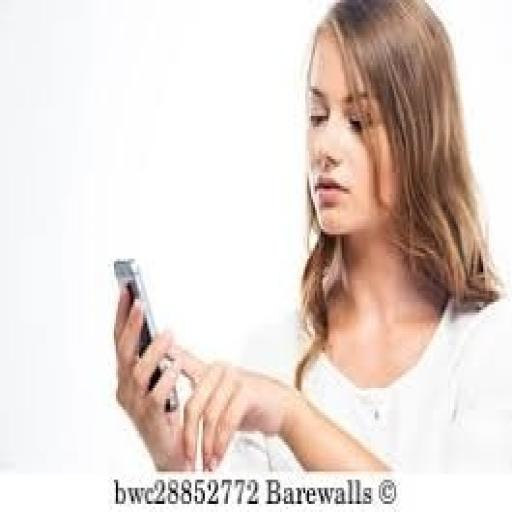texting: (110, 0, 510, 474)
